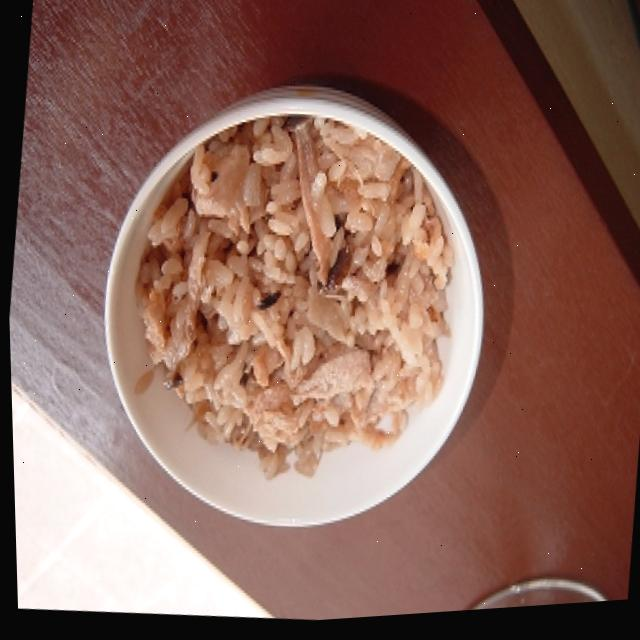米饭主食: (109, 100, 454, 493)
